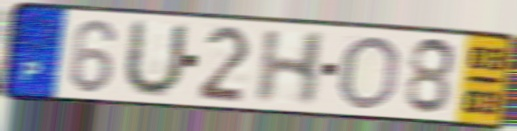2: (196, 23, 255, 105)
6: (66, 17, 119, 96)
8: (402, 35, 459, 117)
H: (252, 29, 330, 107)
O: (335, 33, 403, 112)
U: (119, 17, 191, 100)
